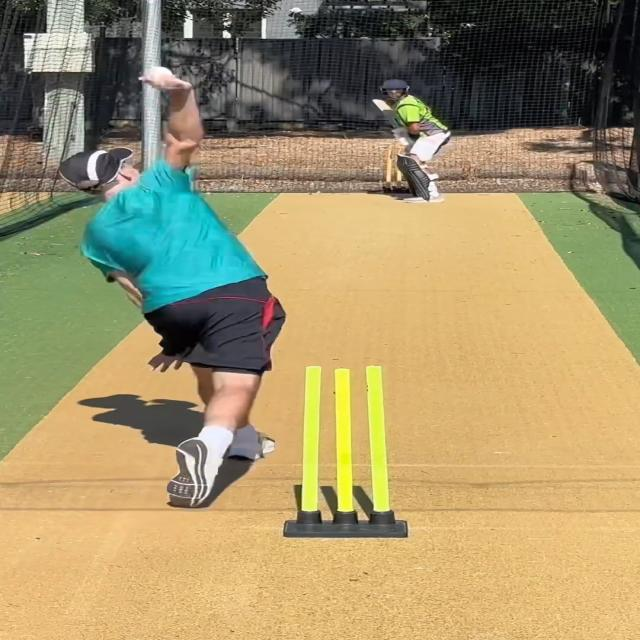stump: (281, 362, 408, 536)
